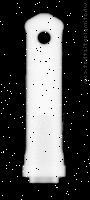Nobel Biocare: (22, 12, 66, 183)
